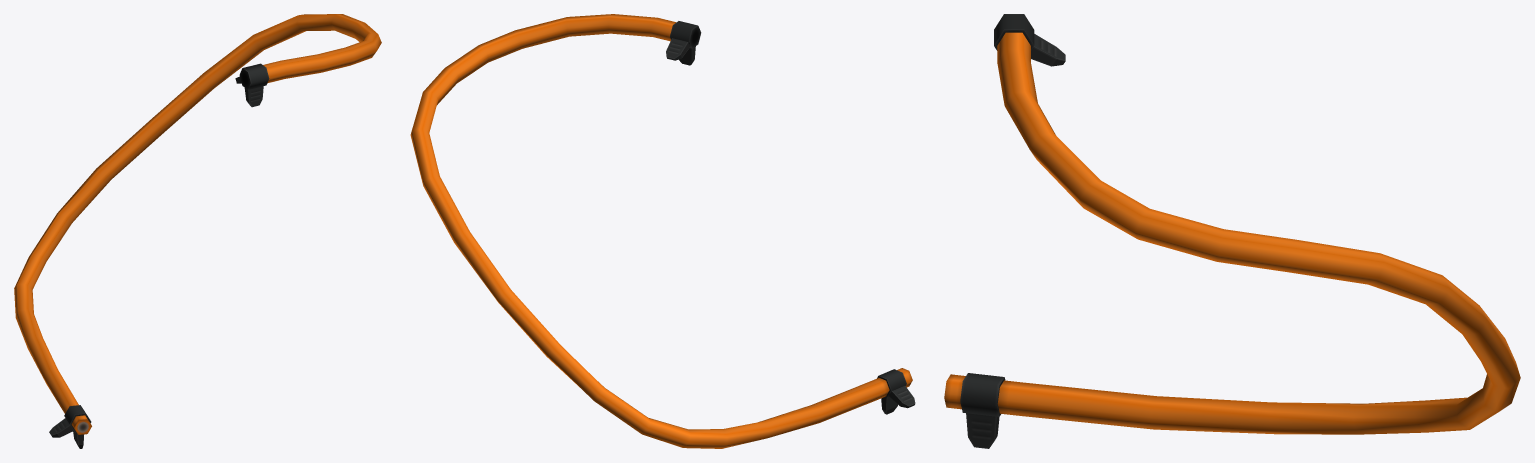
The model's file is jsf_GasRange_09c.fbx.
The picture shows the model from 3 angles, left to right: view 1: azimuth 30°, elevation 25°; view 2: azimuth 150°, elevation 25°; view 3: azimuth 270°, elevation 25°; orthographic projection. The views are drawn at different scales.
Visible parts, largest first — view 1: GasHose; view 2: GasHose; view 3: GasHose.
Part boxes in pixels (<box>): GasHose: <box>14,14,381,448</box>; GasHose: <box>410,14,915,448</box>; GasHose: <box>944,14,1520,448</box>.
Bounding box in the file's own units: 41.42 × 33.97 × 30.36.
